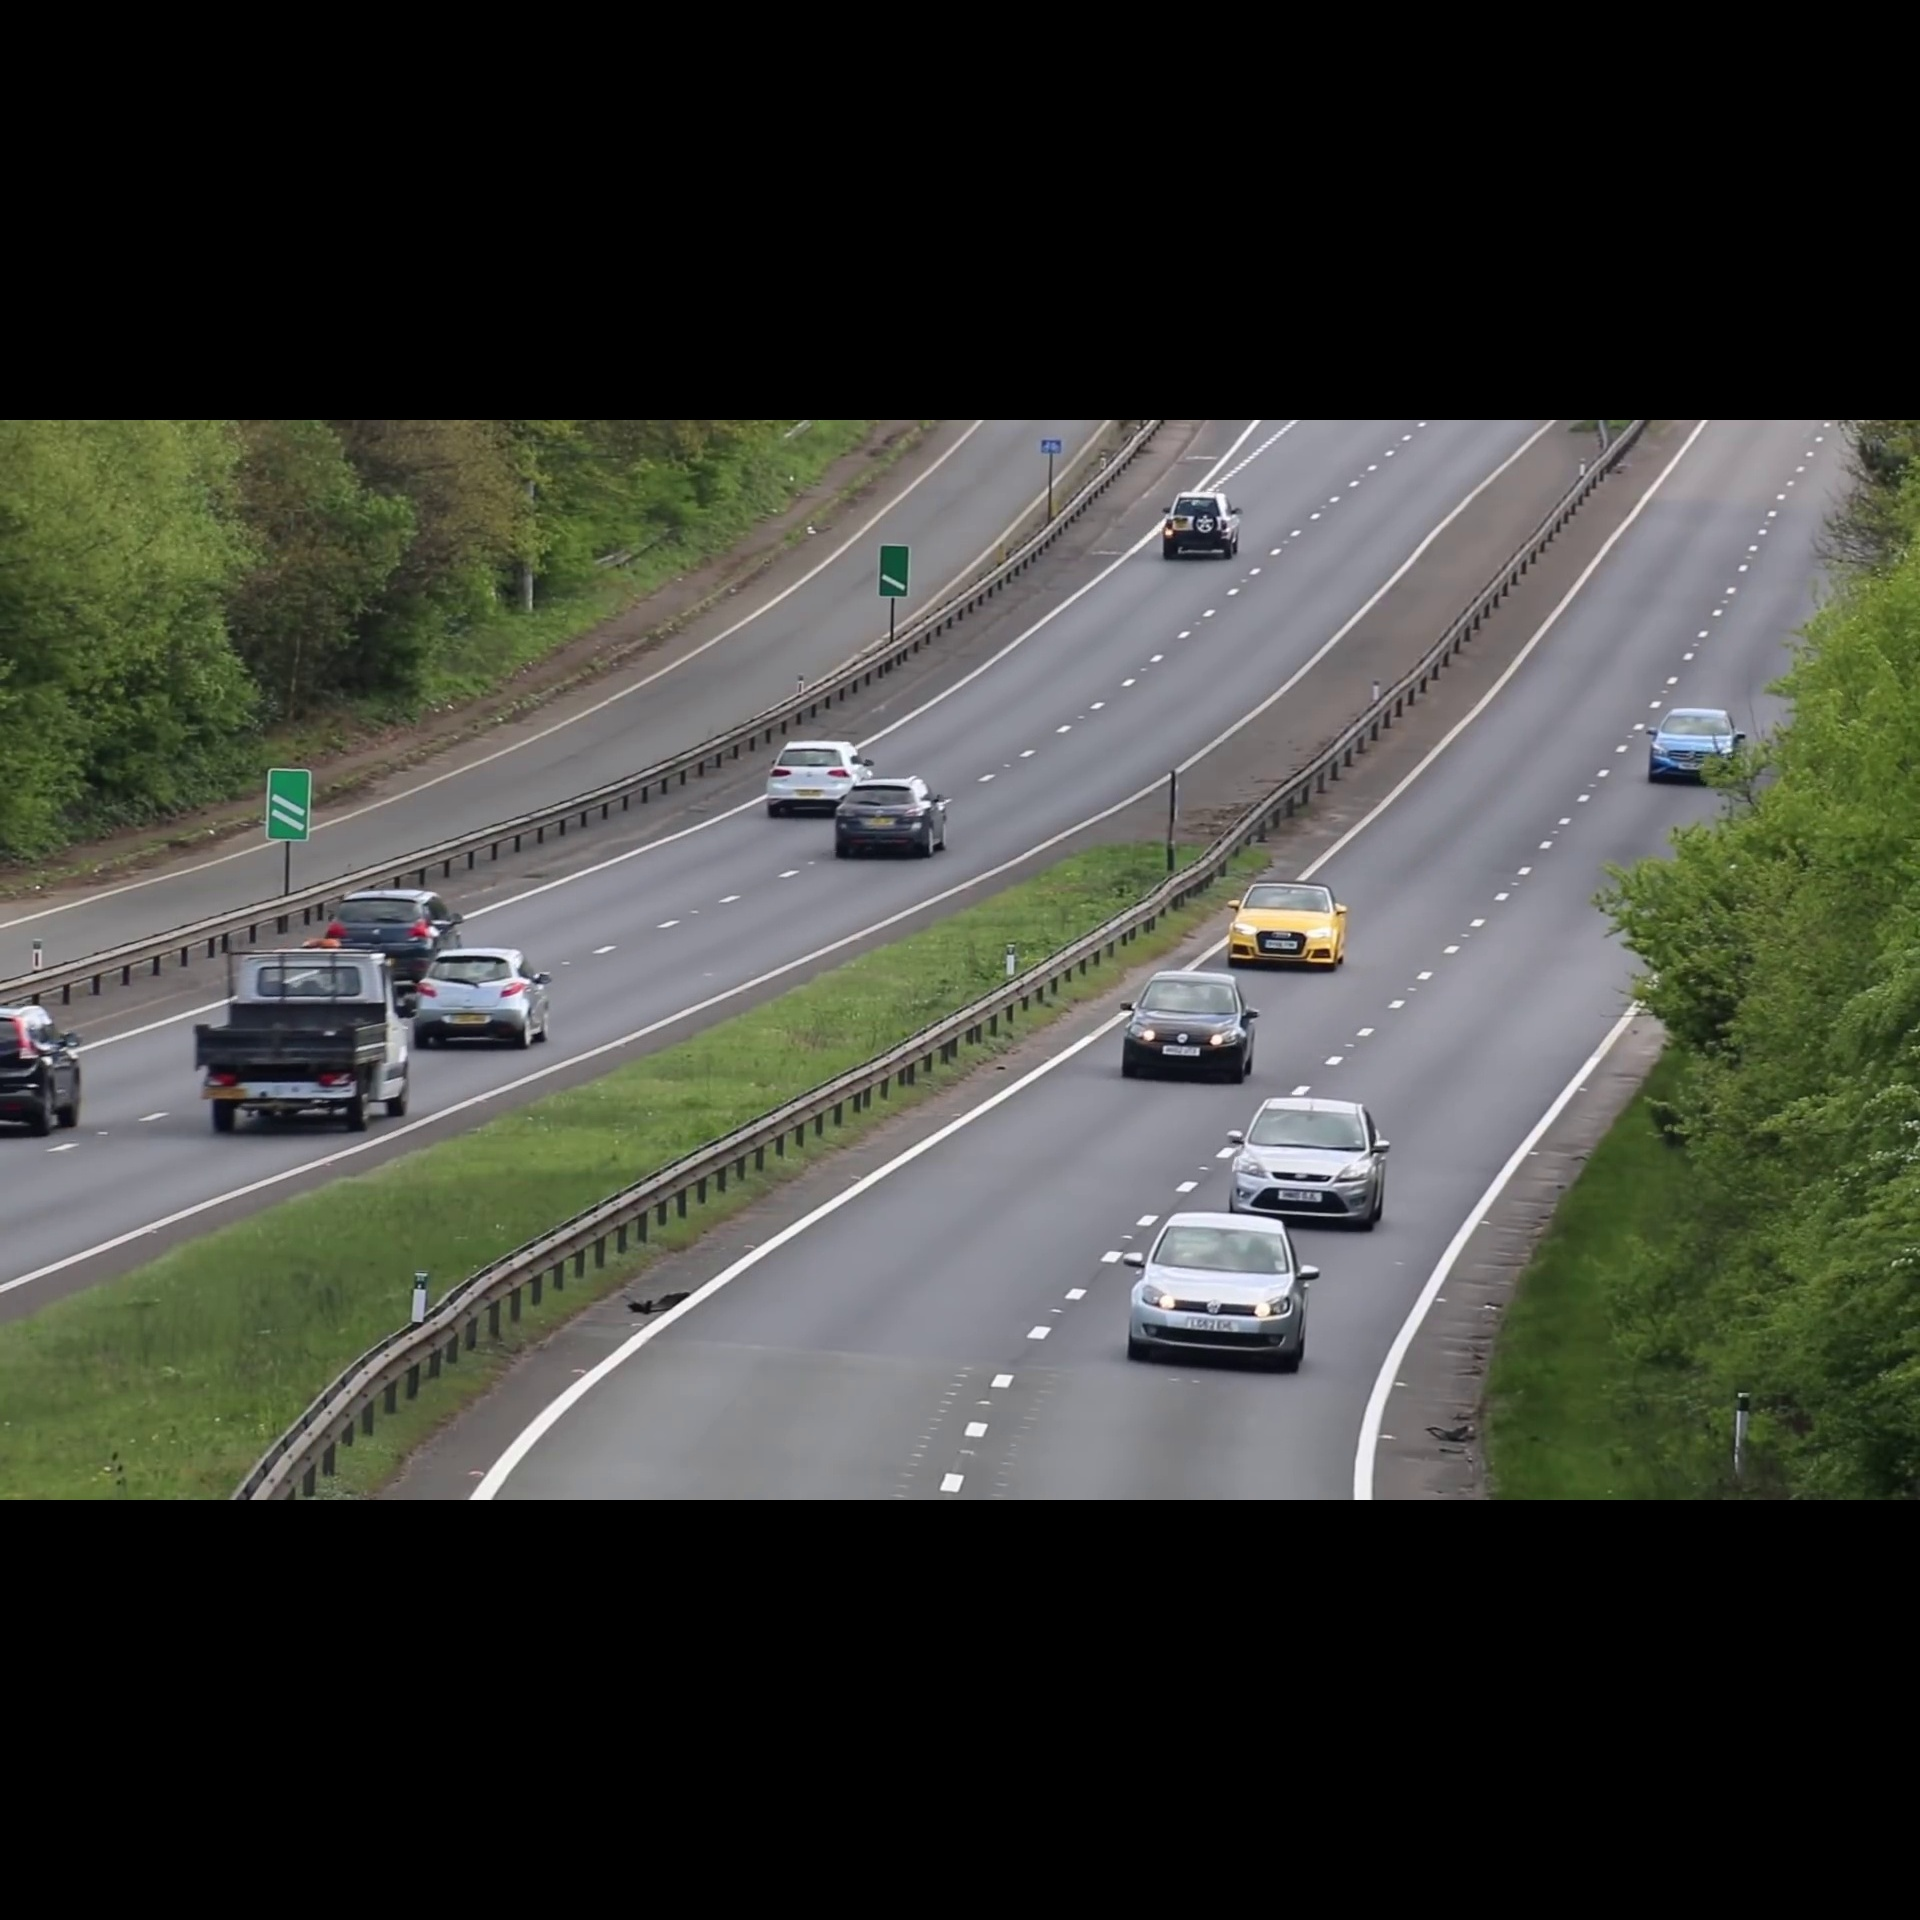vehicle: (190, 949, 411, 1143), (1118, 1211, 1317, 1385), (1225, 1094, 1387, 1233), (1116, 965, 1257, 1085), (413, 948, 554, 1051), (2, 999, 97, 1141), (1224, 879, 1350, 974), (837, 777, 955, 860), (324, 886, 464, 953), (1644, 705, 1749, 788), (761, 735, 865, 816), (1159, 487, 1248, 561)
